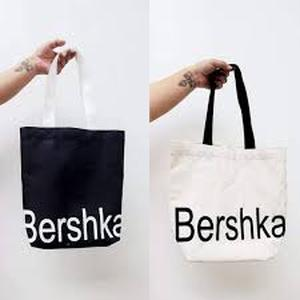bershka: (173, 199, 291, 251), (15, 207, 133, 246)
